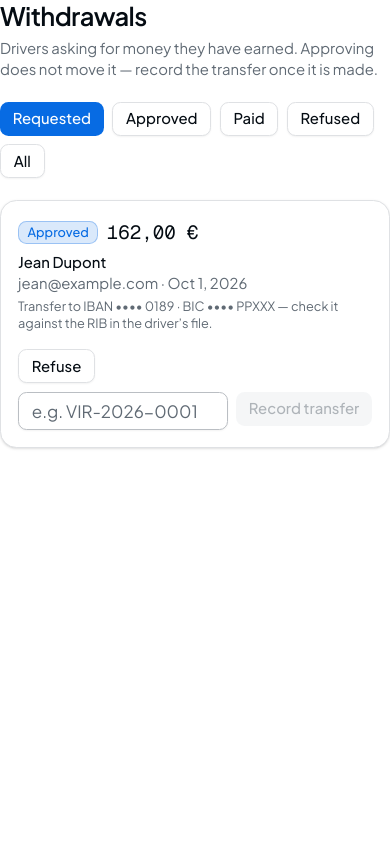
WithdrawalQueue › asks before refusing an approved request, and says what refusing does
Click the button "Refuse" at x=56, y=366, box [18,350,95,384]
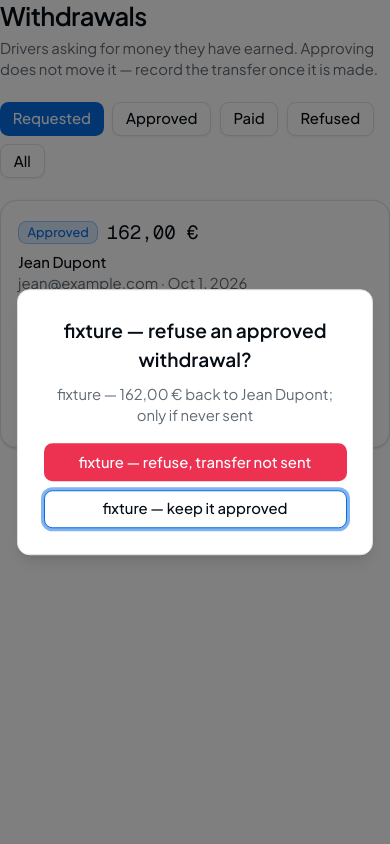
expect the heading "fixture — refuse an approved withdrawal?" is shown: met, box [44,316,346,375]
expect the text "fixture — 162,00 € back to Jean Dupont; only if never sent" is shown: met, box [44,384,346,426]
